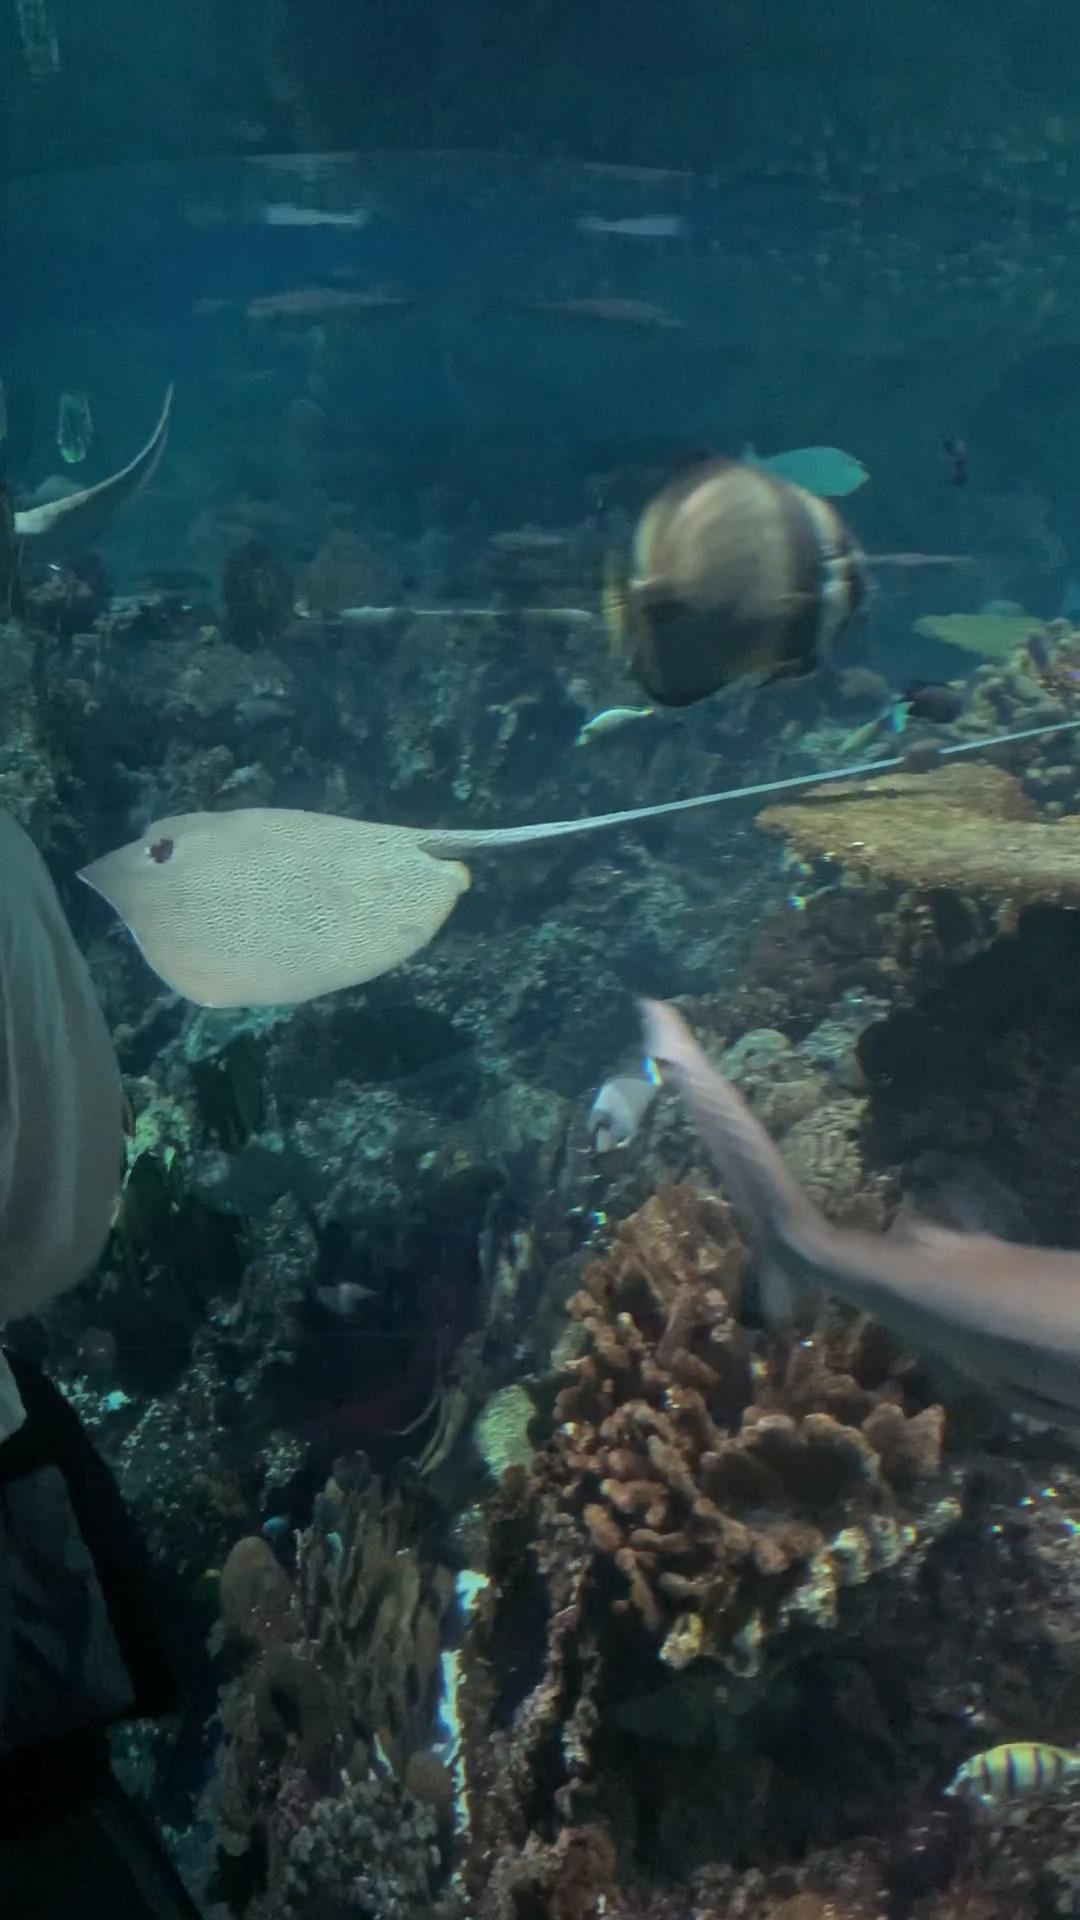fish: (599, 451, 878, 717), (5, 815, 146, 1325), (735, 442, 877, 497)
shark: (642, 990, 1080, 1431)
stingray: (73, 807, 477, 1007)
